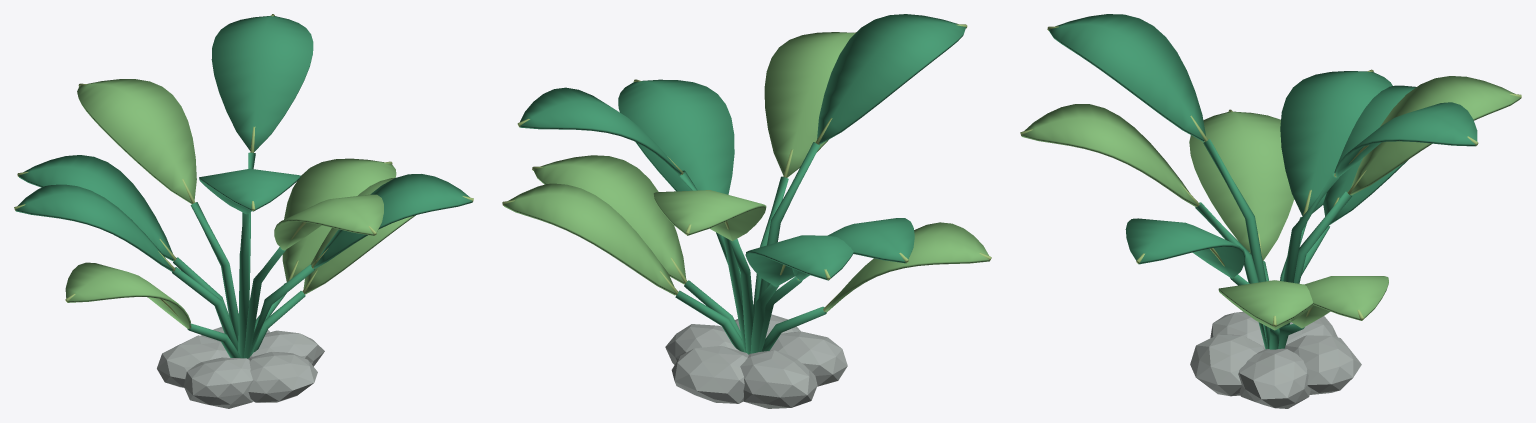
File: broadleaf-plant.glb
3 views of the same model, side by side, from view 1: azimuth 30°, elevation 25°; view 2: azimuth 150°, elevation 25°; view 3: azimuth 270°, elevation 25° (orthographic). The views are drawn at different scales.
Visible parts, largest first — view 1: Lanceolate leaf.003, Lanceolate leaf.006, Lanceolate leaf.008, Lanceolate leaf.001, Lanceolate leaf.009, Lanceolate leaf.005, Lanceolate leaf.002, Lanceolate leaf.004, Root pebble.003, Root pebble.004, Lanceolate leaf.007, Lanceolate leaf (+10 smaller); view 2: Lanceolate leaf.005, Lanceolate leaf.007, Lanceolate leaf.002, Lanceolate leaf, Lanceolate leaf.008, Lanceolate leaf.003, Lanceolate leaf.006, Lanceolate leaf.001, Lanceolate leaf.004, Root pebble.002, Root pebble.001, Lanceolate leaf.009 (+11 smaller); view 3: Lanceolate leaf.004, Lanceolate leaf.007, Lanceolate leaf.009, Lanceolate leaf.002, Lanceolate leaf.006, Lanceolate leaf.005, Lanceolate leaf.003, Root pebble, Lanceolate leaf.008, Lanceolate leaf.001, Lanceolate leaf, Root pebble.004 (+7 smaller).
Part boxes in pixels (x1=…): Lanceolate leaf.003: x1=211, y1=15, x2=313, y2=151; Lanceolate leaf.006: x1=77, y1=79, x2=196, y2=203; Lanceolate leaf.008: x1=282, y1=158, x2=396, y2=281; Lanceolate leaf.001: x1=19, y1=155, x2=173, y2=260; Lanceolate leaf.009: x1=15, y1=184, x2=173, y2=271; Lanceolate leaf.005: x1=313, y1=174, x2=472, y2=268; Lanceolate leaf.002: x1=274, y1=194, x2=383, y2=250; Lanceolate leaf.004: x1=65, y1=262, x2=190, y2=328; Root pebble.003: x1=183, y1=357, x2=252, y2=408; Root pebble.004: x1=248, y1=352, x2=317, y2=402; Lanceolate leaf.007: x1=199, y1=168, x2=300, y2=214; Lanceolate leaf: x1=303, y1=177, x2=415, y2=294; Lanceolate leaf.005: x1=618, y1=79, x2=734, y2=194; Lanceolate leaf.007: x1=817, y1=14, x2=965, y2=144; Lanceolate leaf.002: x1=764, y1=32, x2=854, y2=177; Lanceolate leaf: x1=533, y1=155, x2=686, y2=284; Lanceolate leaf.008: x1=504, y1=183, x2=675, y2=295; Lanceolate leaf.003: x1=519, y1=87, x2=681, y2=175; Lanceolate leaf.006: x1=653, y1=190, x2=766, y2=241; Lanceolate leaf.001: x1=745, y1=235, x2=853, y2=286; Lanceolate leaf.004: x1=825, y1=222, x2=989, y2=312; Root pebble.002: x1=740, y1=350, x2=817, y2=408; Root pebble.001: x1=671, y1=346, x2=748, y2=403; Lanceolate leaf.009: x1=792, y1=218, x2=914, y2=281; Lanceolate leaf.004: x1=1189, y1=111, x2=1294, y2=260; Lanceolate leaf.007: x1=1049, y1=14, x2=1205, y2=141; Lanceolate leaf.009: x1=1280, y1=71, x2=1392, y2=215; Lanceolate leaf.002: x1=1021, y1=104, x2=1196, y2=206; Lanceolate leaf.006: x1=1350, y1=76, x2=1520, y2=195; Lanceolate leaf.005: x1=1125, y1=218, x2=1245, y2=278; Lanceolate leaf.003: x1=1335, y1=102, x2=1477, y2=177; Root pebble: x1=1238, y1=348, x2=1310, y2=408; Lanceolate leaf.008: x1=1289, y1=276, x2=1388, y2=328; Lanceolate leaf.001: x1=1323, y1=85, x2=1416, y2=224; Lanceolate leaf: x1=1218, y1=280, x2=1313, y2=330; Root pebble.004: x1=1190, y1=334, x2=1264, y2=396.
Size of the model in its own units: 2.18 by 1.51 by 2.16.
